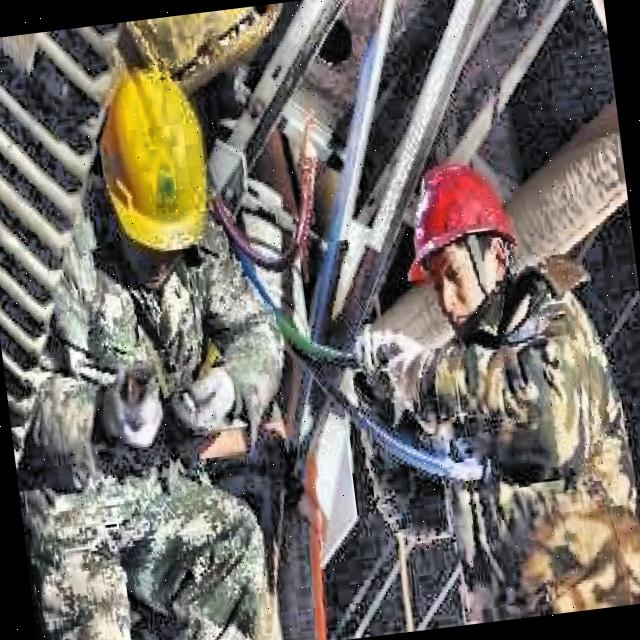helmet: (75, 55, 236, 299), (395, 148, 536, 328)
